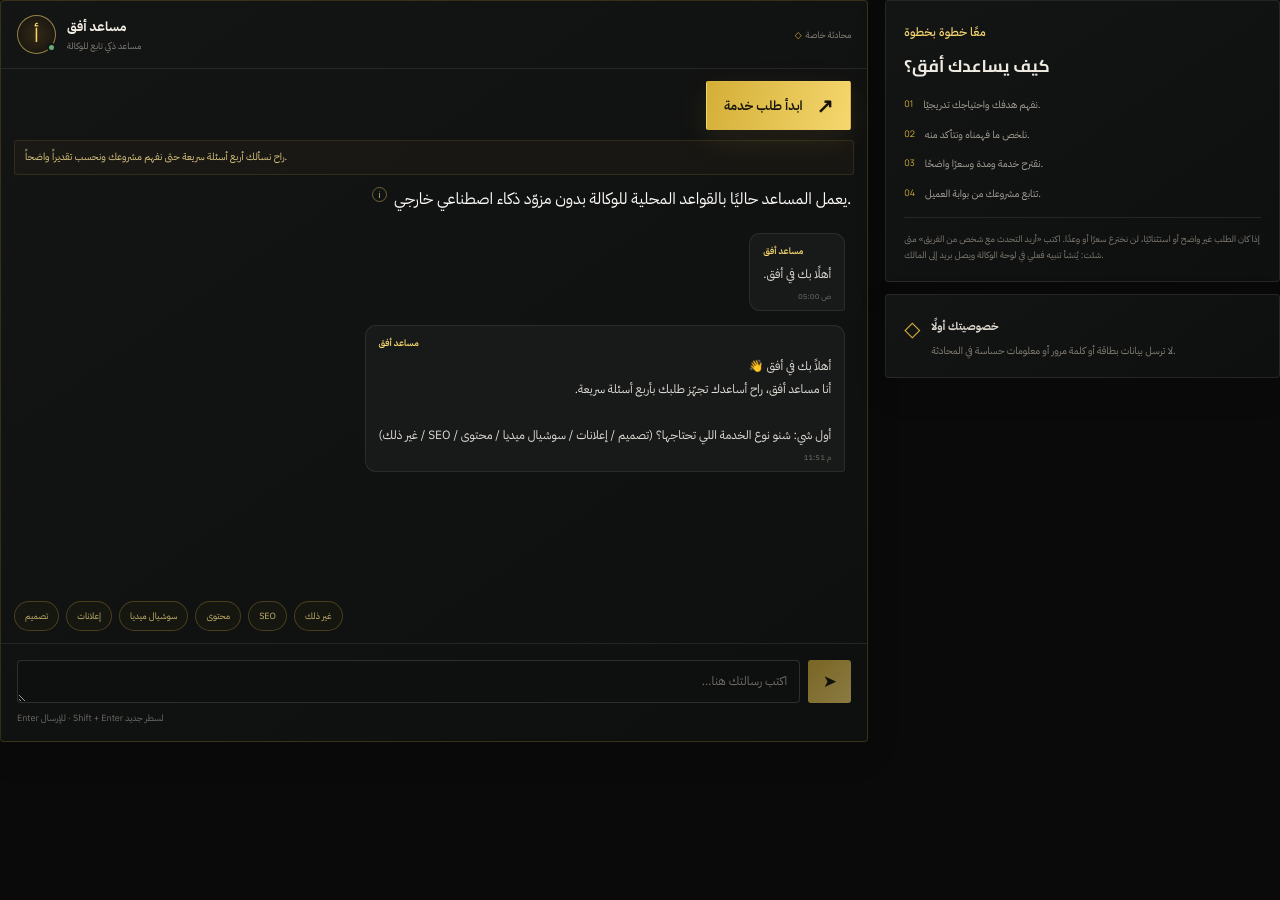
budget changed mid-conversation › a budget-looking message the AI cannot read re-shows the budget options, never a random reply
Click the button "إعلانات": (89, 616) x1=66 y1=600 x2=112 y2=630
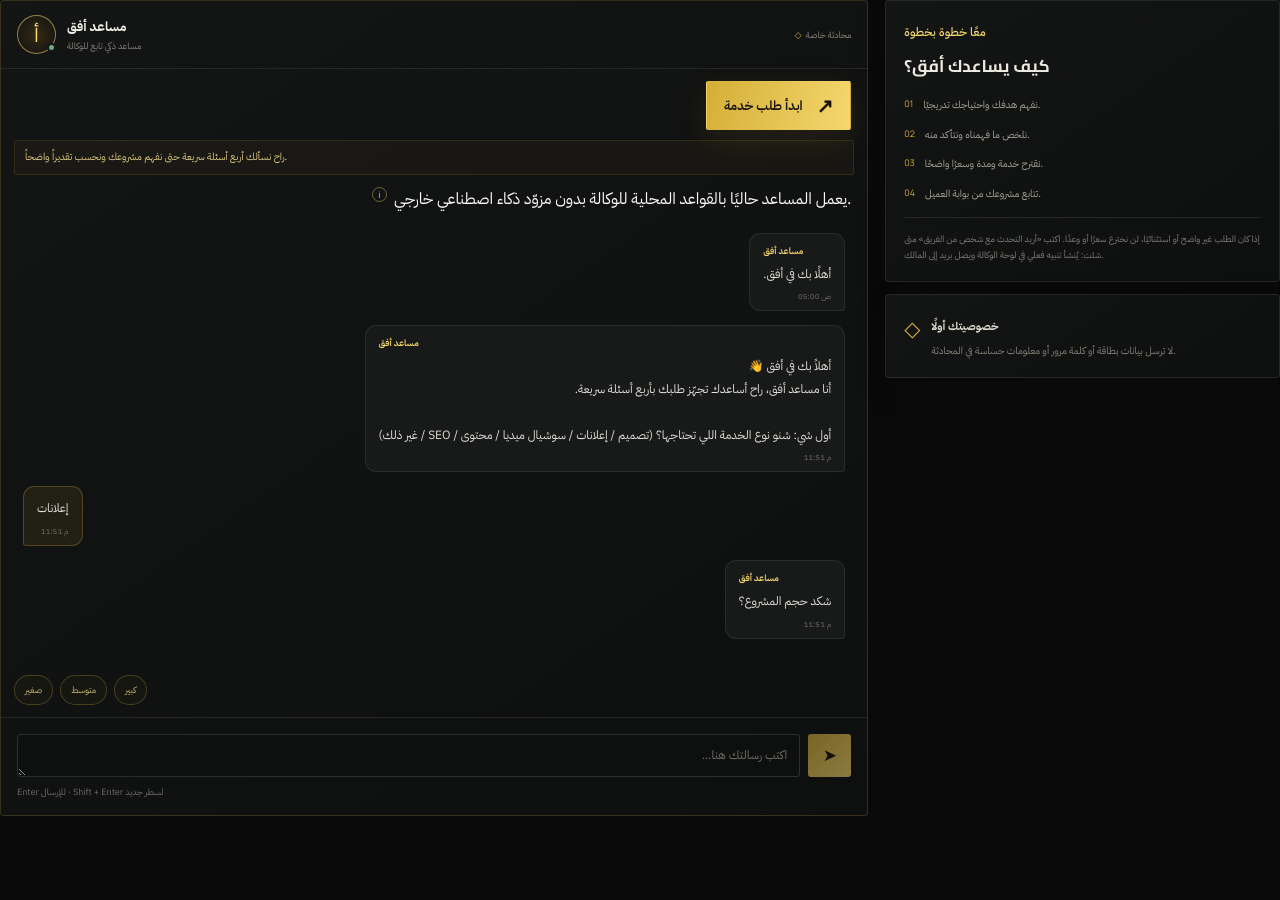
Click the button "متوسط": (84, 690) x1=60 y1=675 x2=107 y2=705
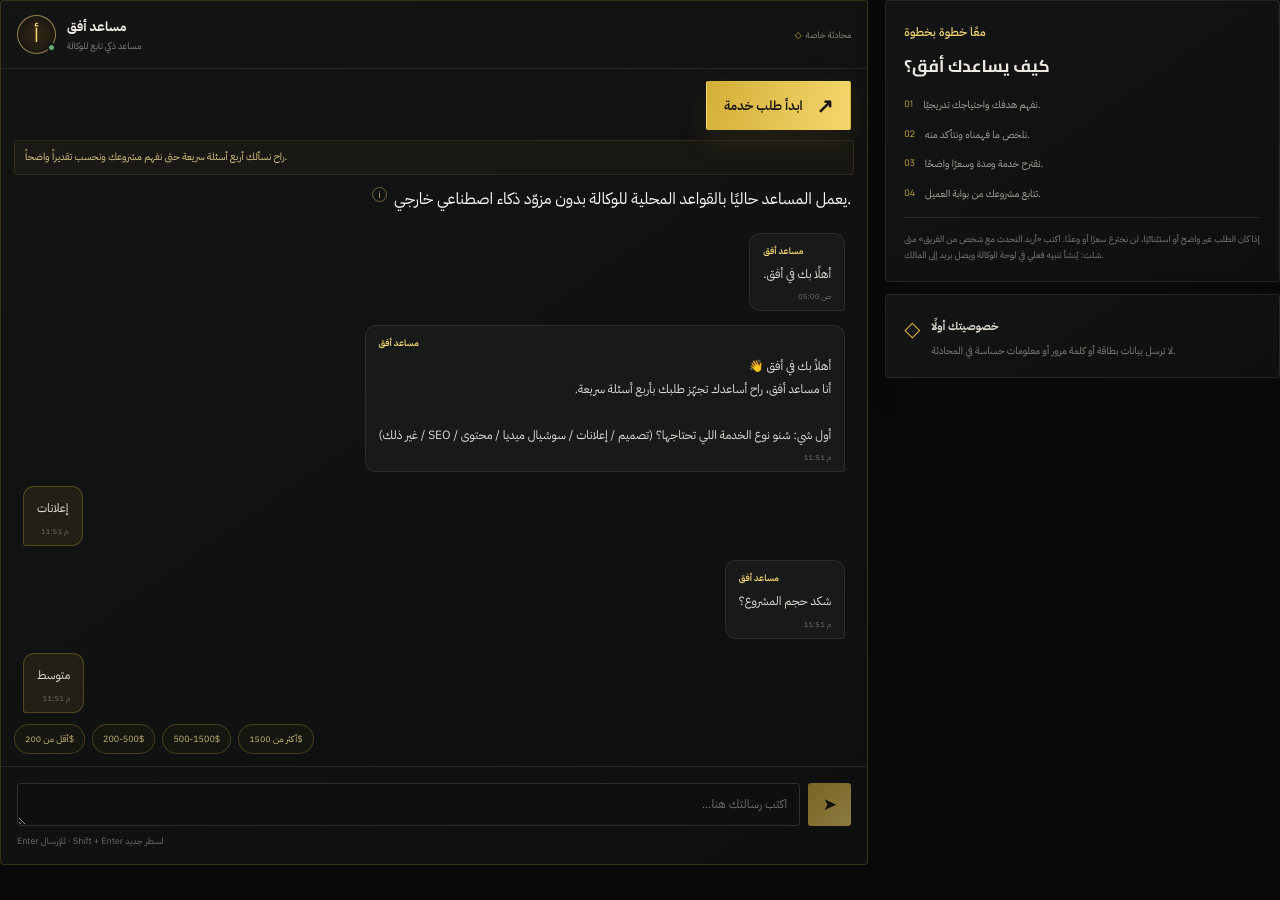
Click the button "أقل من 200$": (50, 738) x1=14 y1=724 x2=85 y2=754
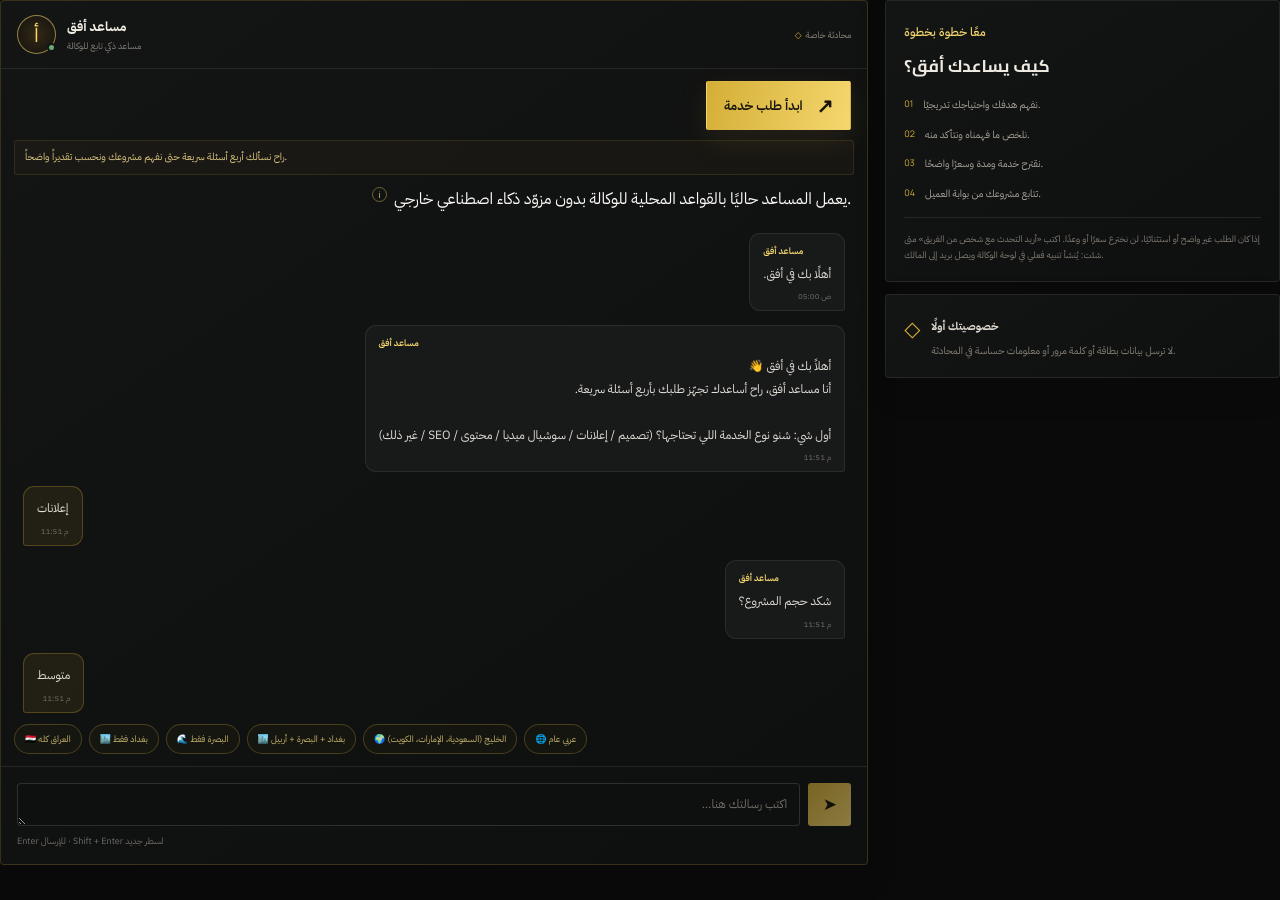
In the text box: (409, 804) x1=17 y1=782 x2=800 y2=826, type "ميزانية على كيفكم تقريباً"
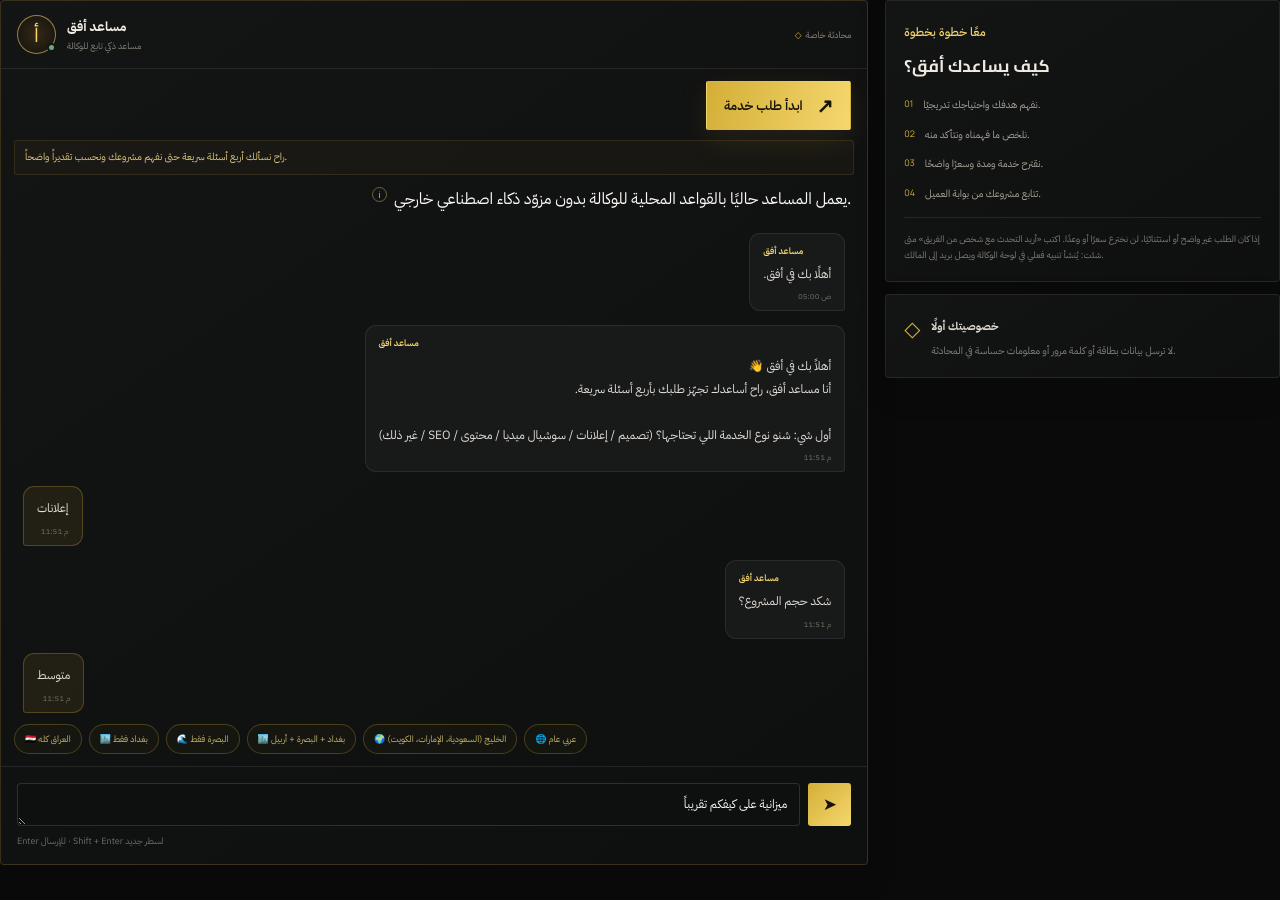
Submit the form, box x1=1 y1=766 x2=867 y2=864
(page scrolled)
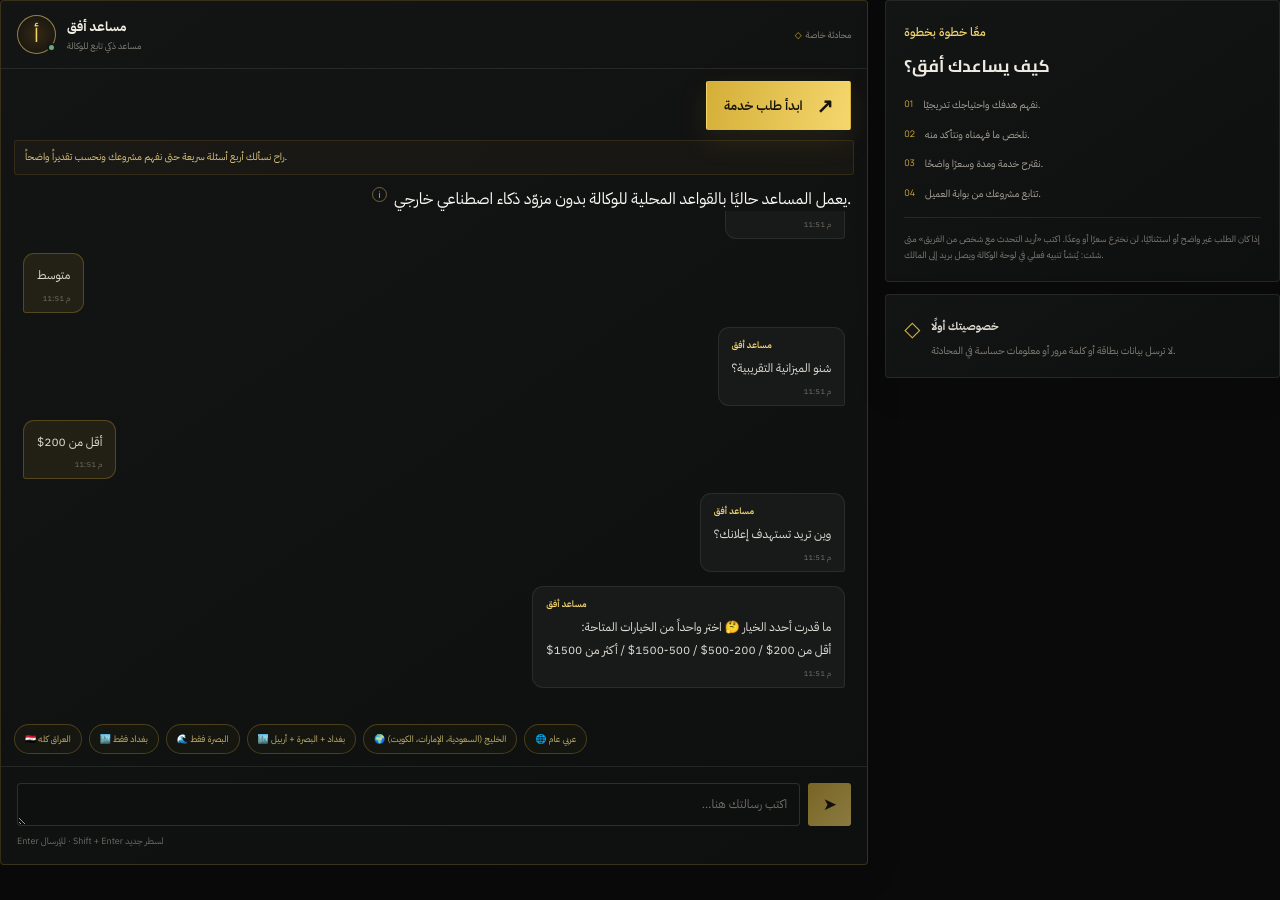
Result: the text "ما قدرت أحدد الخيار" is shown at x1=546 y1=618 x2=831 y2=659
Result: the text "200-500$" is shown at x1=546 y1=618 x2=831 y2=659
